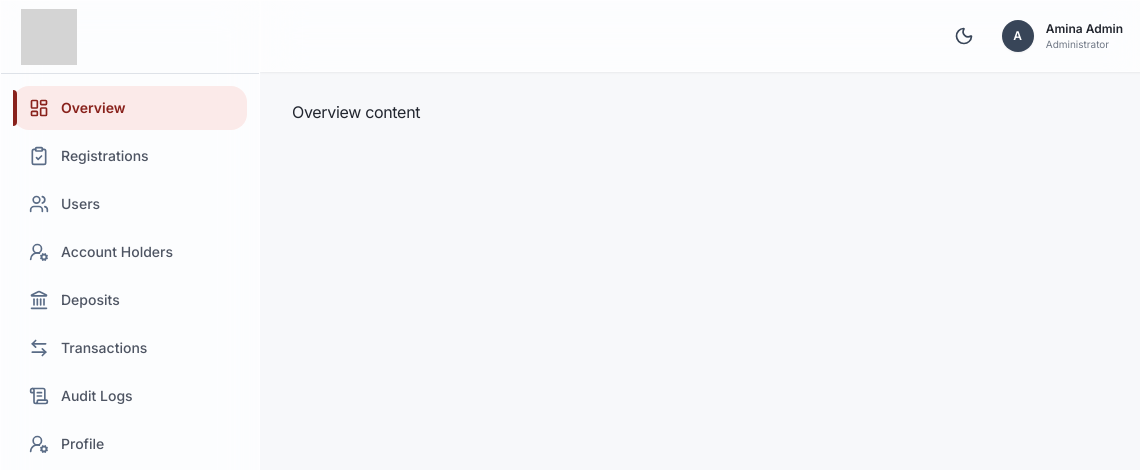
Scenario: AdminLayout › navigates inside the admin workspace
The width and height of the screenshot is (1140, 470).
Click the button "Registrations": click(130, 156) [13,134,247,178]
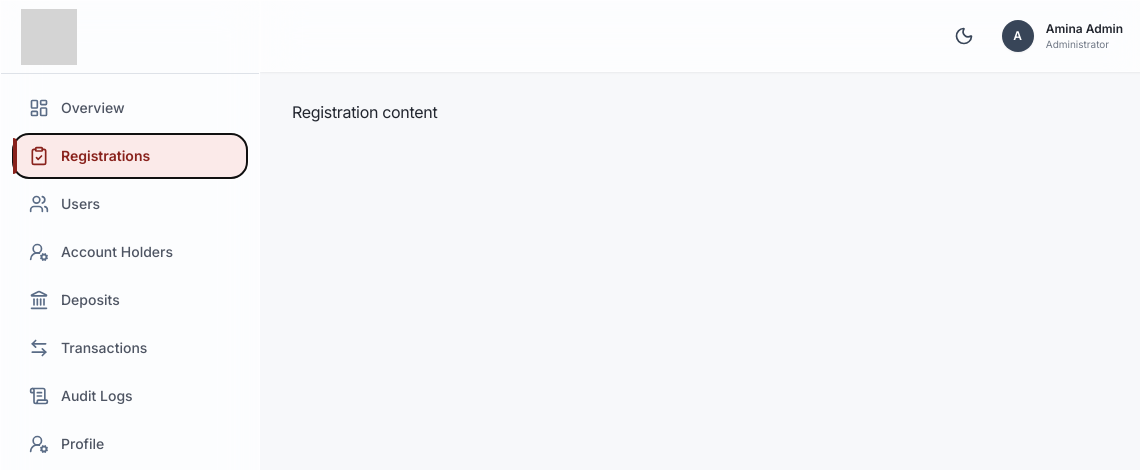
Now the heading "Registration content" is shown, box [292,102,437,122]
